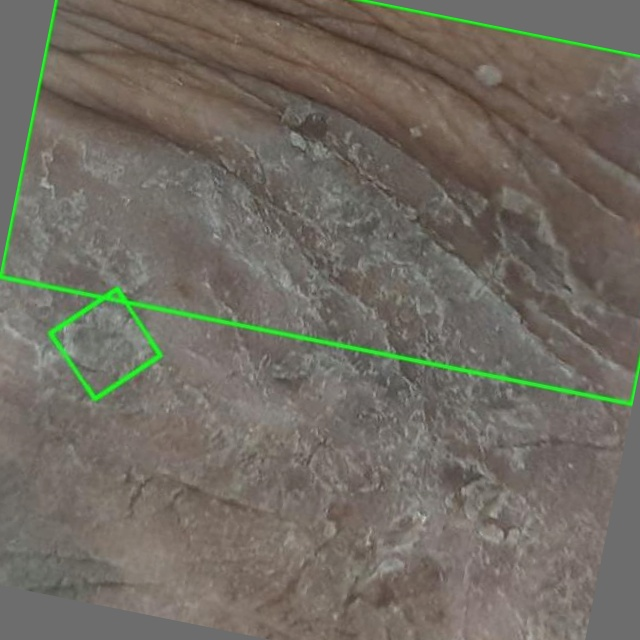Eczema: (0, 0, 639, 405), (50, 289, 160, 399)
